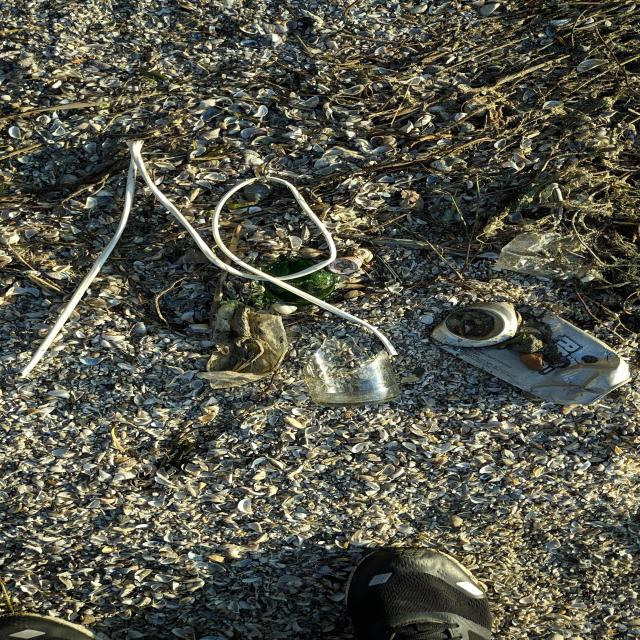litter: (426, 301, 634, 408), (337, 542, 497, 639), (301, 334, 401, 409)
